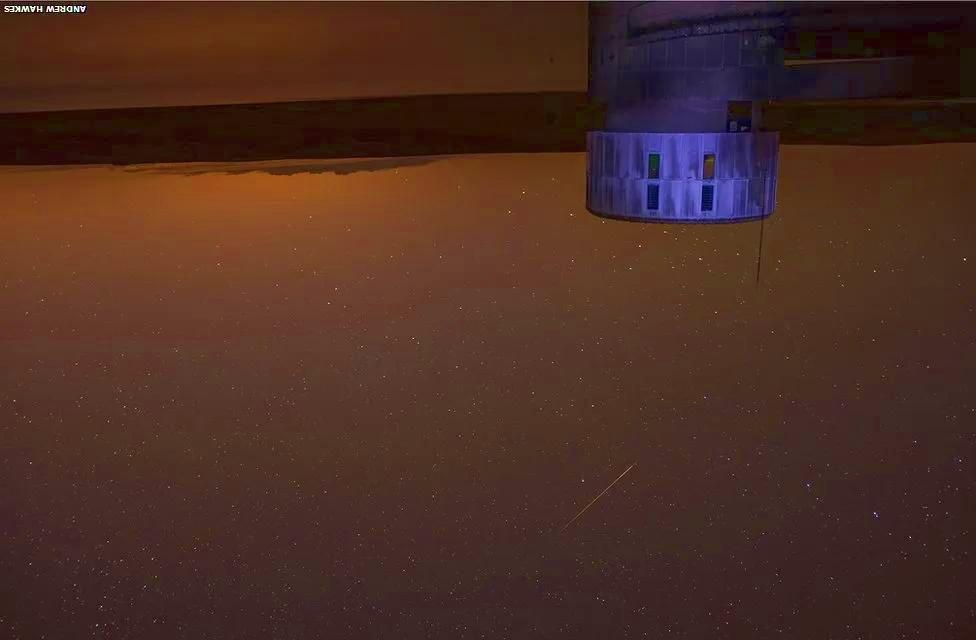meteorite: (551, 459, 656, 548)
